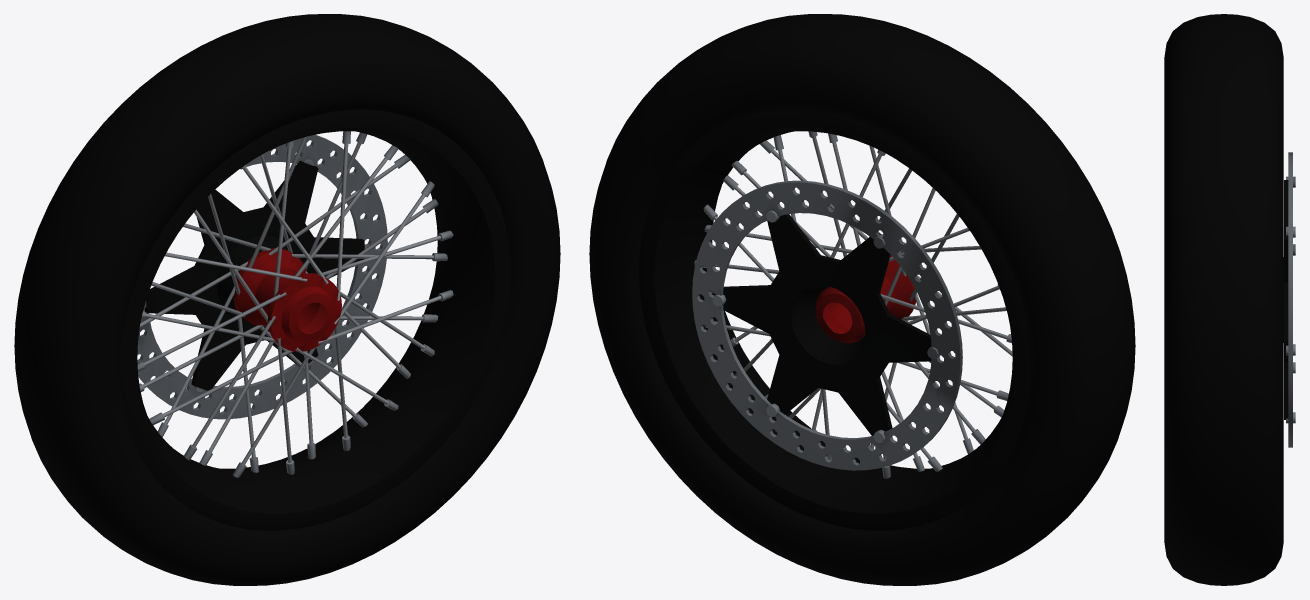
The model's file is bike_supermoto_wheelF.glb.
The picture shows the model from 3 angles, left to right: view 1: azimuth 30°, elevation 25°; view 2: azimuth 150°, elevation 25°; view 3: azimuth 270°, elevation 25°; orthographic projection. The views are drawn at different scales.
Visible parts, largest first — view 1: sm_wheelF_tyre, sm_wheelF_rim, sm_wheelF_spokes, sm_wheelF_disc, sm_wheelF_carrier, sm_wheelF_hub, sm_wheelF_nipples, sm_wheelF_dcone; view 2: sm_wheelF_tyre, sm_wheelF_rim, sm_wheelF_disc, sm_wheelF_carrier, sm_wheelF_spokes, sm_wheelF_hub, sm_wheelF_dcone, sm_wheelF_nipples, sm_wheelF_buttons; view 3: sm_wheelF_tyre, sm_wheelF_disc, sm_wheelF_carrier, sm_wheelF_buttons.
Part boxes in pixels (x1=…): sm_wheelF_tyre: x1=14, y1=14, x2=560, y2=585; sm_wheelF_rim: x1=119, y1=109, x2=510, y2=530; sm_wheelF_spokes: x1=139, y1=136, x2=441, y2=465; sm_wheelF_disc: x1=137, y1=134, x2=387, y2=419; sm_wheelF_carrier: x1=145, y1=160, x2=364, y2=390; sm_wheelF_hub: x1=233, y1=248, x2=341, y2=351; sm_wheelF_nipples: x1=137, y1=131, x2=453, y2=477; sm_wheelF_dcone: x1=217, y1=235, x2=288, y2=318; sm_wheelF_tyre: x1=589, y1=14, x2=1135, y2=585; sm_wheelF_rim: x1=639, y1=109, x2=1030, y2=530; sm_wheelF_disc: x1=692, y1=180, x2=962, y2=470; sm_wheelF_carrier: x1=723, y1=214, x2=939, y2=435; sm_wheelF_spokes: x1=713, y1=137, x2=1012, y2=460; sm_wheelF_hub: x1=816, y1=255, x2=915, y2=343; sm_wheelF_dcone: x1=794, y1=285, x2=865, y2=362; sm_wheelF_nipples: x1=694, y1=131, x2=1011, y2=478; sm_wheelF_buttons: x1=712, y1=210, x2=939, y2=443; sm_wheelF_tyre: x1=1164, y1=14, x2=1283, y2=585; sm_wheelF_disc: x1=1288, y1=152, x2=1292, y2=447; sm_wheelF_carrier: x1=1284, y1=180, x2=1288, y2=419; sm_wheelF_buttons: x1=1286, y1=176, x2=1295, y2=423.
Bounding box in the file's own units: 0.6 × 0.6 × 0.1375.
